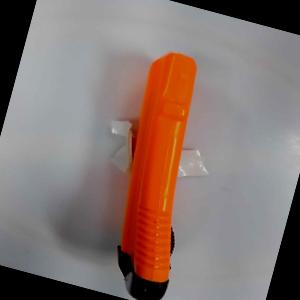estilete: (87, 44, 227, 300)
